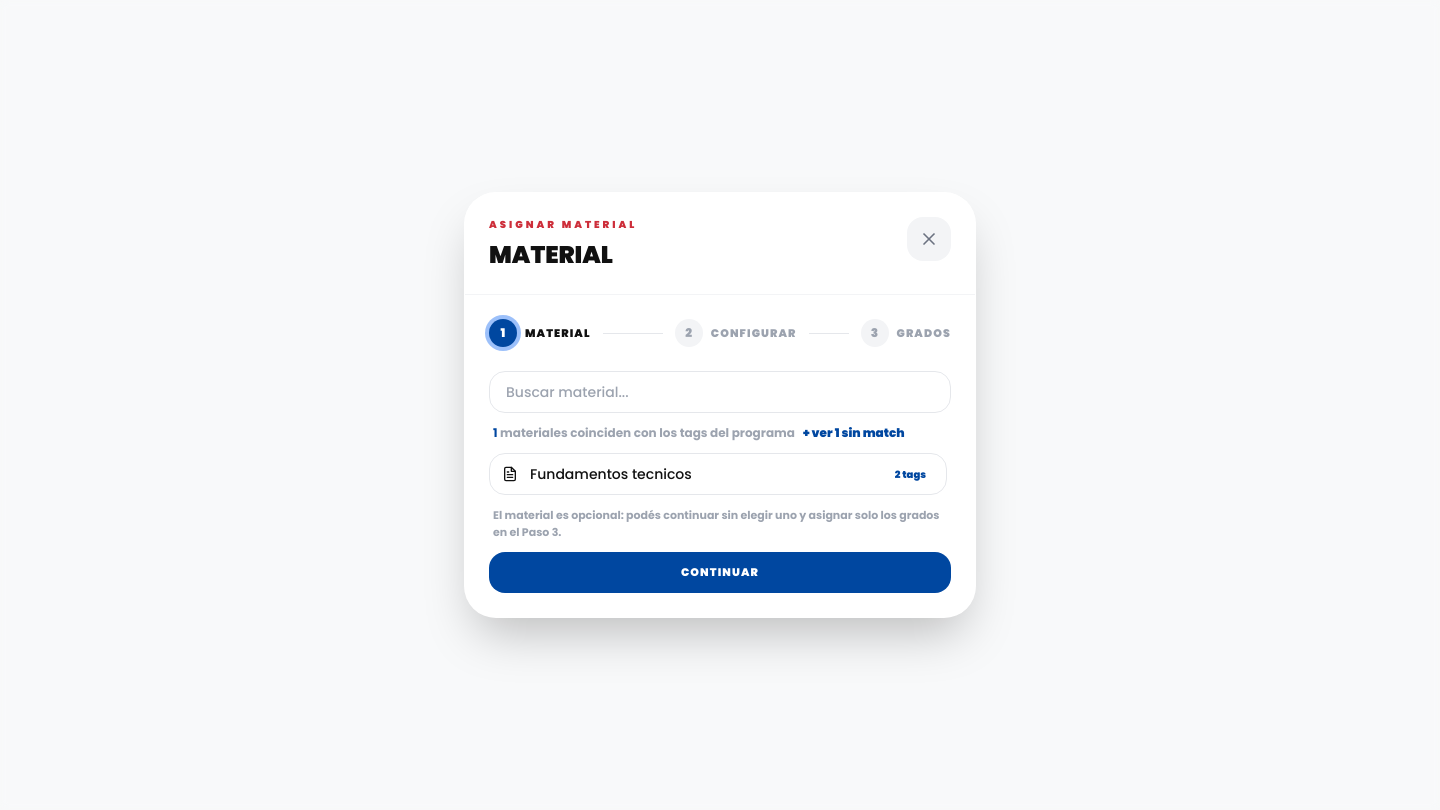
it: AsignarMaterialWizard › Paso 3: grados › deshabilita Asignar sin ningun grado marcado y lo habilita al marcar uno
Click the button "Fundamentos tecnicos 2 tags". click: (611, 474)
box: top-left (489, 453), bottom-right (947, 495)
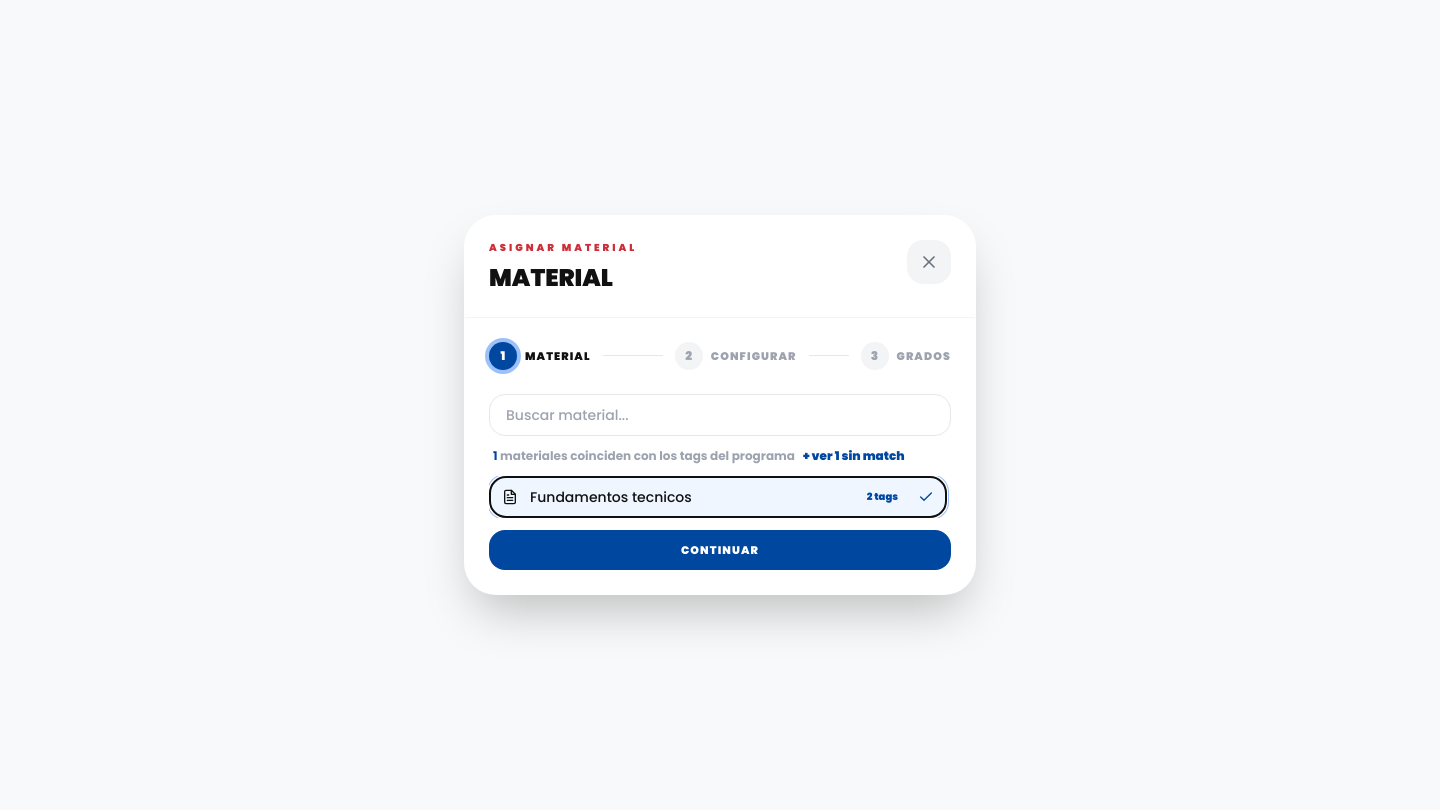
Click the button "Continuar". click: (720, 550)
box: top-left (489, 530), bottom-right (951, 570)
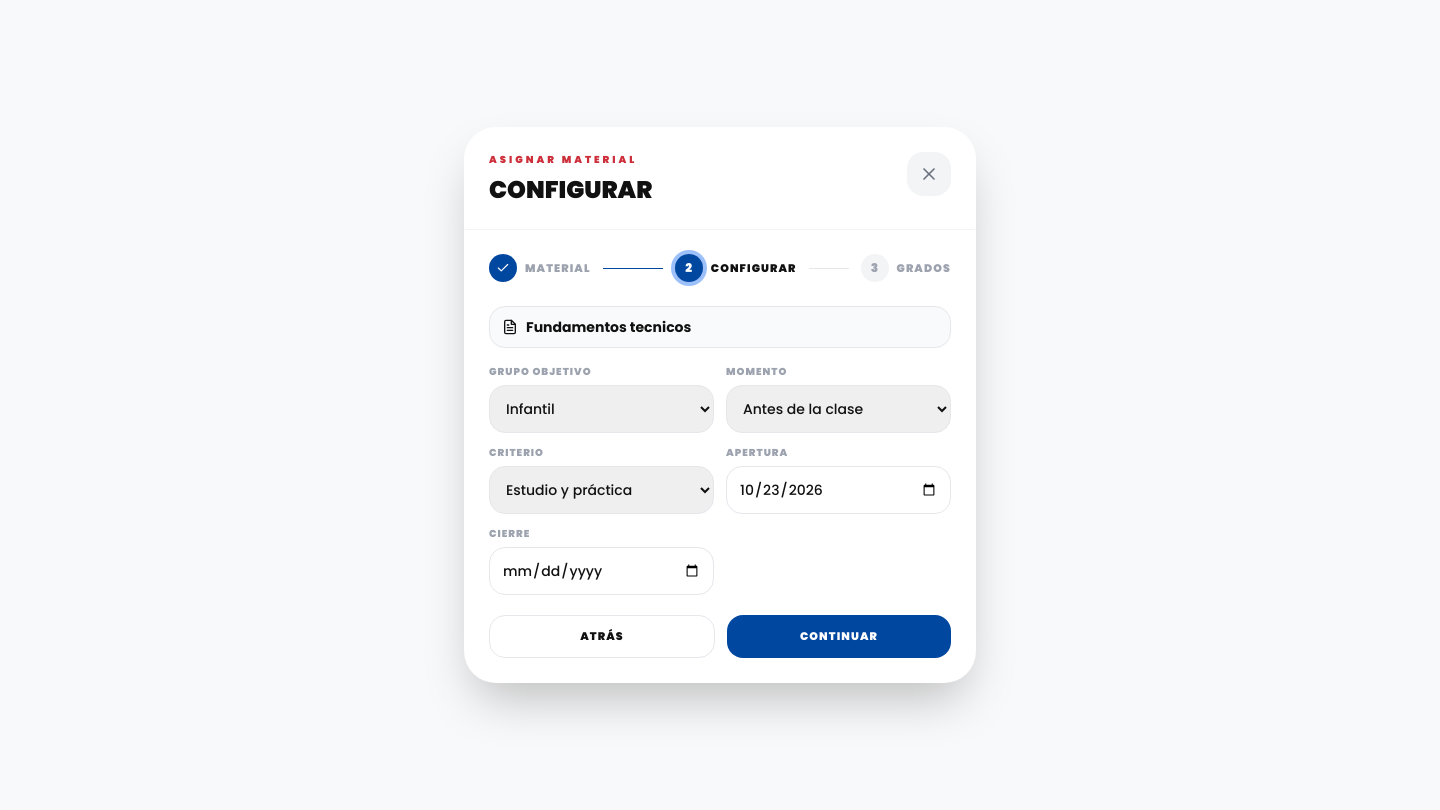
Click the button "Continuar". click: (839, 637)
box: top-left (727, 615), bottom-right (951, 658)
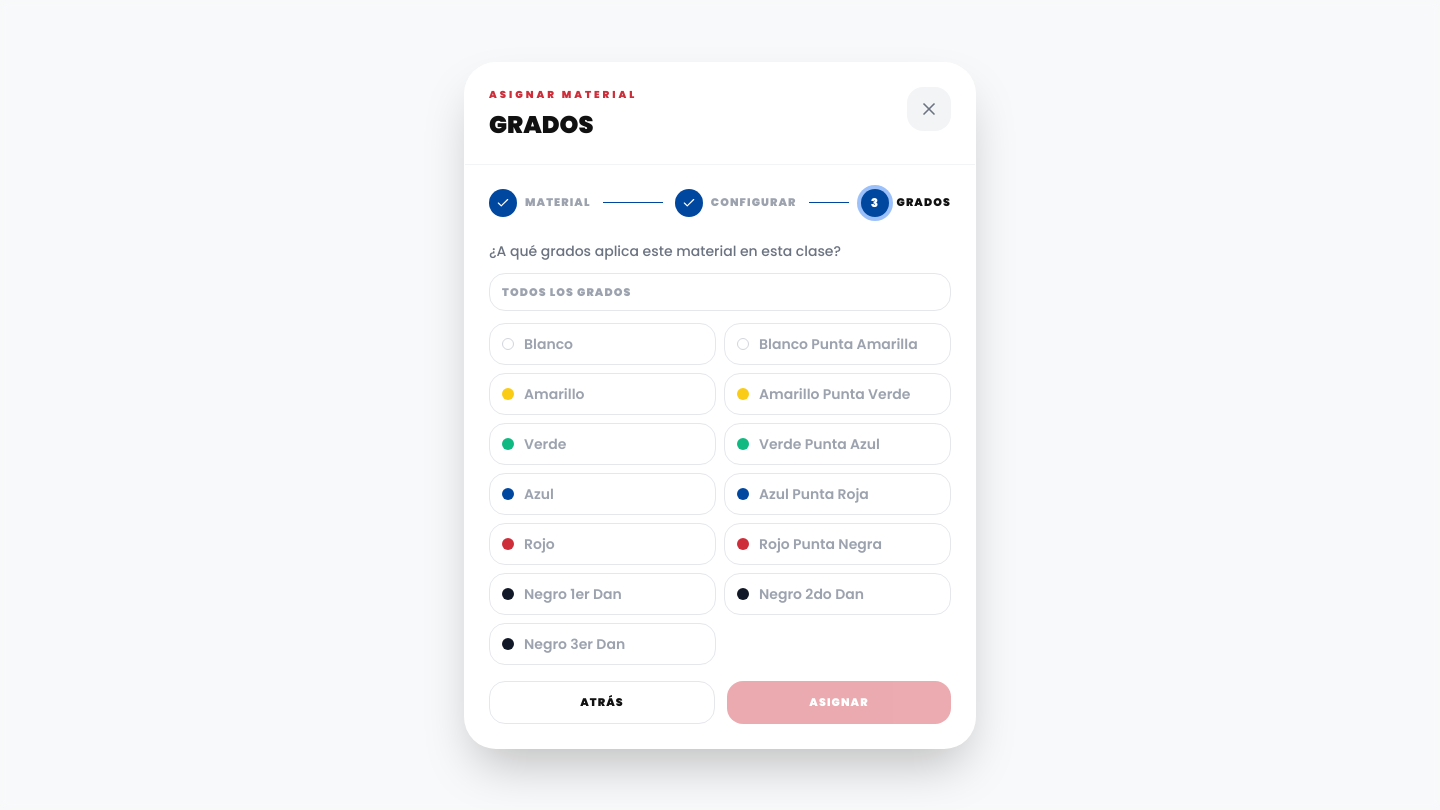
Check: the button "Asignar" is disabled, box top-left (727, 681), bottom-right (951, 724)
Click the button "Blanco". click: (602, 344)
box: top-left (489, 323), bottom-right (716, 365)
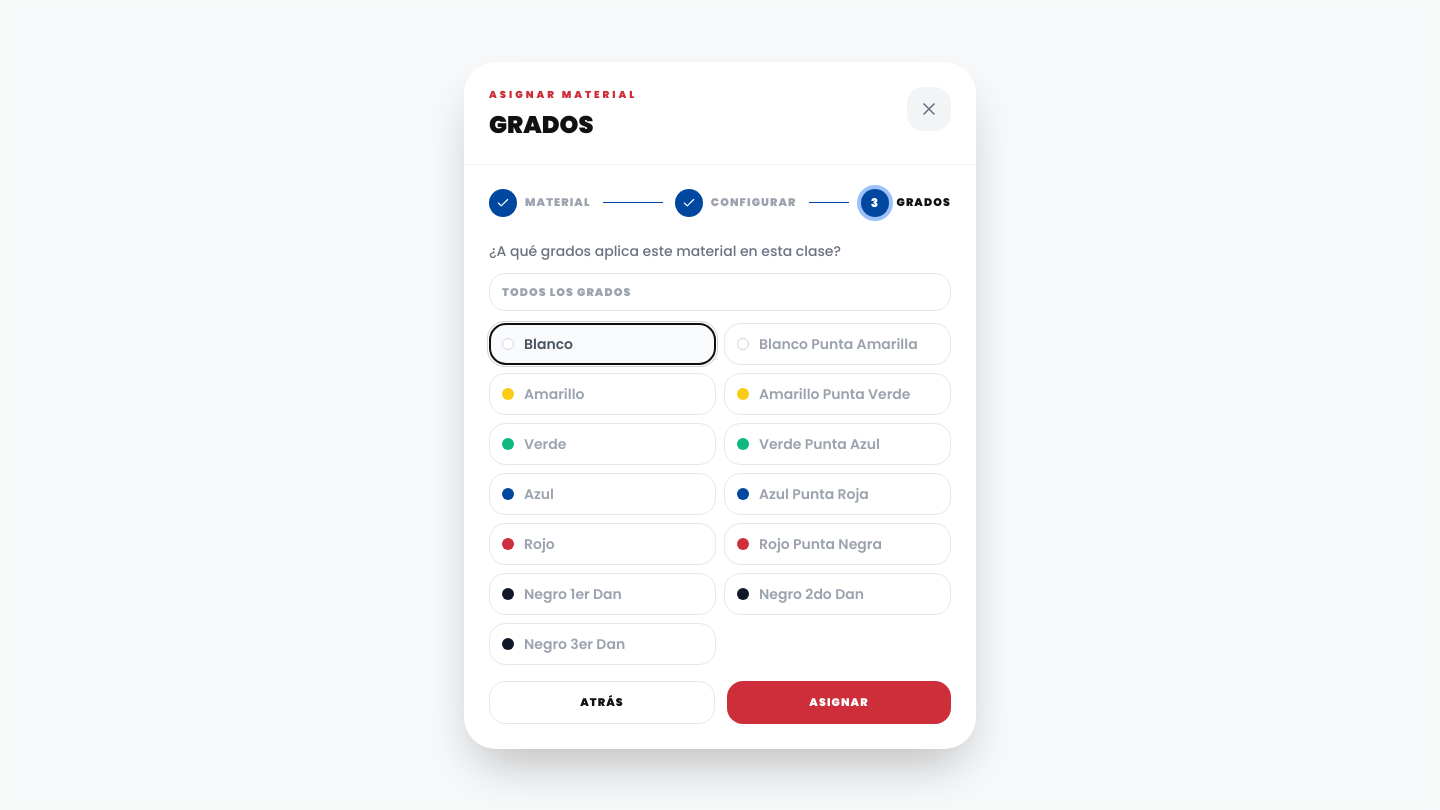
Check: the button "Asignar" is enabled, box top-left (727, 681), bottom-right (951, 724)
